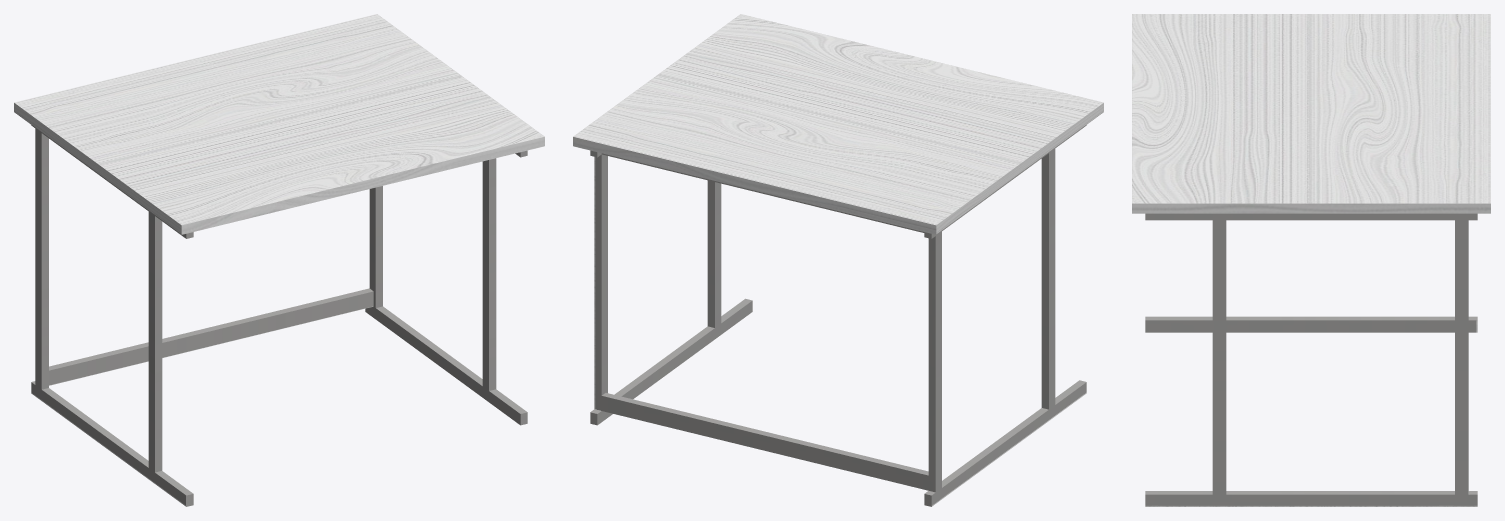
Rendered from table_100.dae.
The picture shows the model from 3 angles, left to right: view 1: azimuth 30°, elevation 25°; view 2: azimuth 150°, elevation 25°; view 3: azimuth 270°, elevation 25°; orthographic projection. The views are drawn at different scales.
Parts seen in each view (by area): view 1: Stul_100 v4; view 2: Stul_100 v4; view 3: Stul_100 v4.
Part boxes in pixels (x1,y1,x2,y2): Stul_100 v4: (14, 14, 544, 506); Stul_100 v4: (573, 14, 1103, 506); Stul_100 v4: (1132, 14, 1490, 506).
Bounding box in the file's own units: 1 × 0.8 × 0.76.
1 material, 1 textured.
